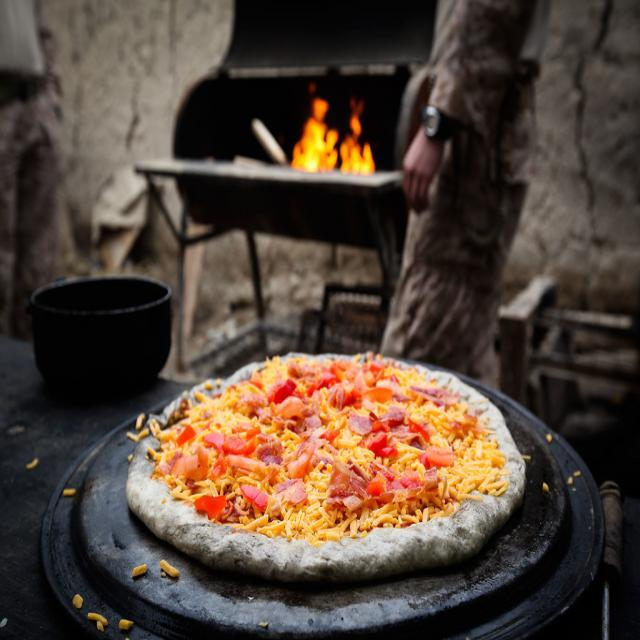Pizza: (123, 363, 513, 591)
